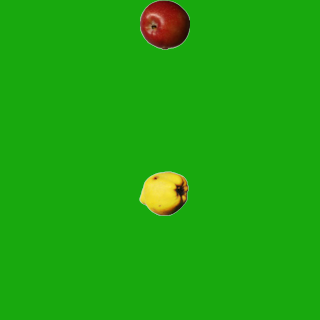Apple Braeburn: (139, 0, 189, 49)
Quince: (138, 168, 188, 218)
